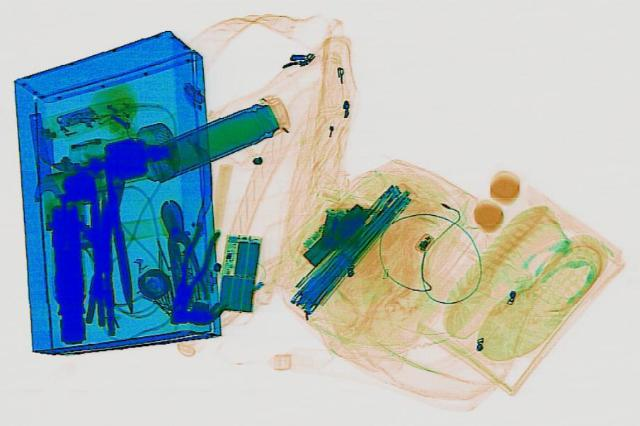Pliers: (156, 218, 224, 321), (152, 196, 212, 304)
